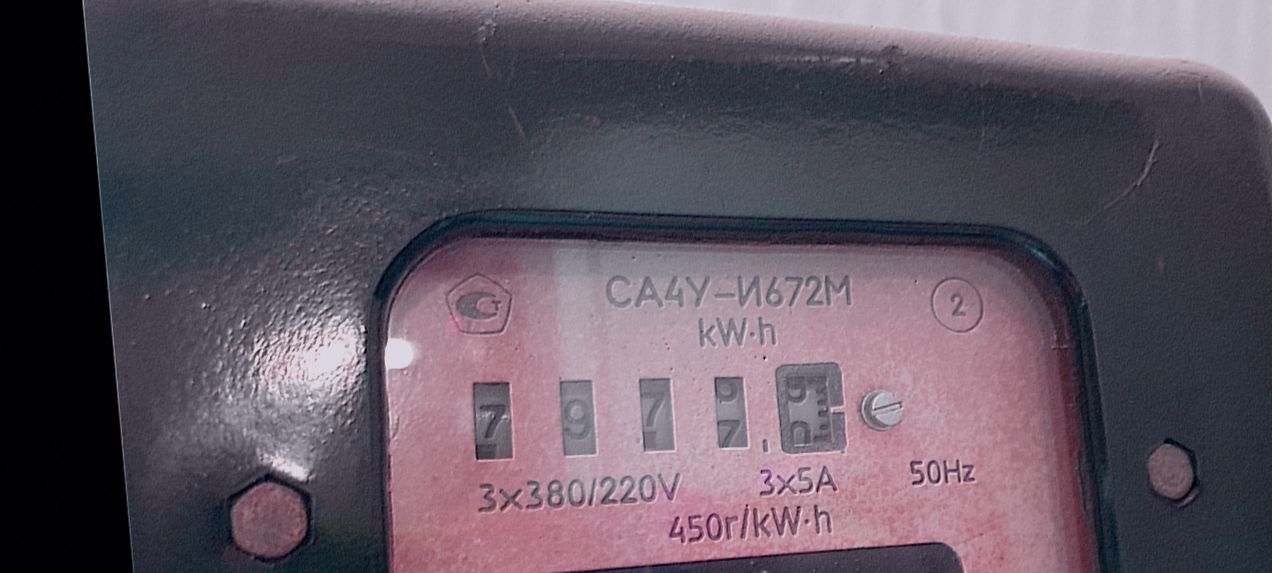0: (786, 417, 811, 448)
7: (472, 398, 510, 446), (712, 410, 745, 454), (637, 388, 669, 431)
9: (558, 395, 593, 445), (780, 373, 813, 408)
screen: (454, 337, 864, 499)
